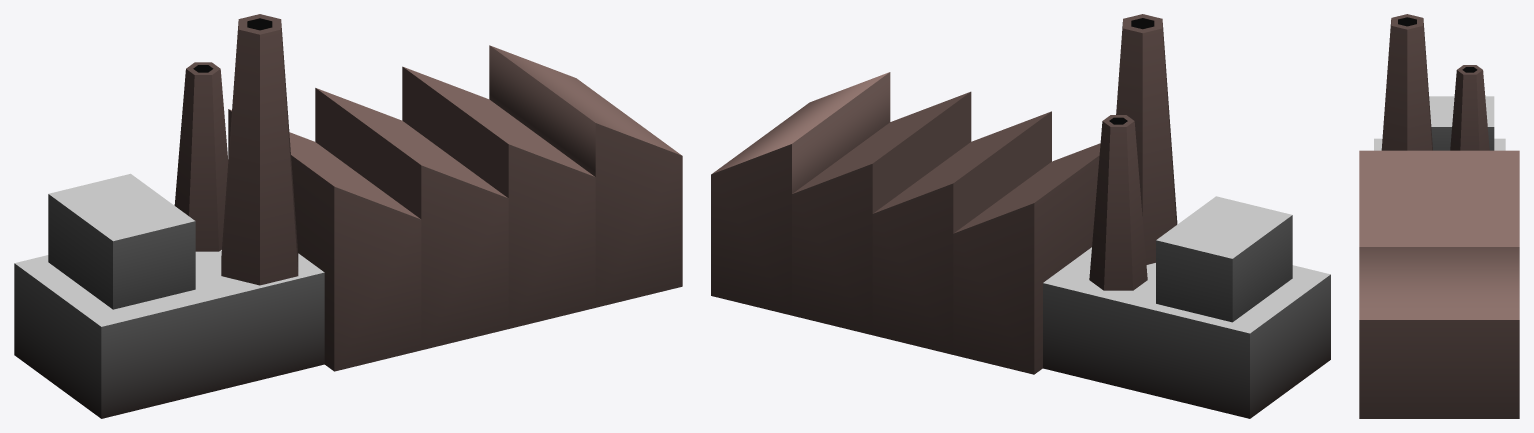
The model's file is building_factory.fbx.
The picture shows the model from 3 angles, left to right: view 1: azimuth 30°, elevation 25°; view 2: azimuth 150°, elevation 25°; view 3: azimuth 270°, elevation 25°; orthographic projection. The views are drawn at different scales.
Visible parts, largest first — view 1: terrain_factory; view 2: terrain_factory; view 3: terrain_factory.
Boxes of the visible parts, x1,y1,x2,y2 form: terrain_factory: [14, 14, 682, 418]; terrain_factory: [711, 14, 1330, 418]; terrain_factory: [1359, 14, 1519, 418].
Bounding box in the file's own units: 4.47 × 2.5 × 1.44.
